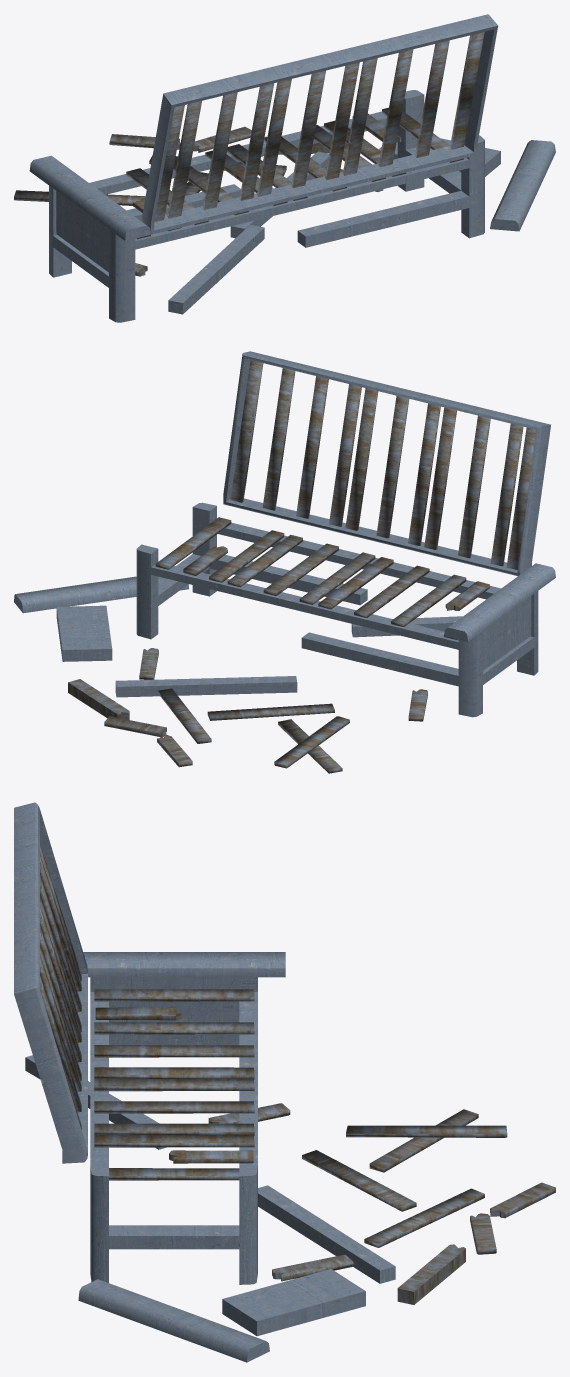
File: bench_broken.glb
3 renders of one model, top to bottom at view 1: azimuth 30°, elevation 25°; view 2: azimuth 150°, elevation 25°; view 3: azimuth 270°, elevation 25°, orthographic. The views are drawn at different scales.
Parts seen in each view (by area): view 1: Broken_Chair_Broken_Chair_Uv_map_0; view 2: Broken_Chair_Broken_Chair_Uv_map_0; view 3: Broken_Chair_Broken_Chair_Uv_map_0.
Part boxes in pixels (x1,y1,x2,y2): Broken_Chair_Broken_Chair_Uv_map_0: (14, 14, 555, 322); Broken_Chair_Broken_Chair_Uv_map_0: (14, 351, 555, 773); Broken_Chair_Broken_Chair_Uv_map_0: (14, 802, 555, 1362).
Bounding box in the file's own units: 1.88 × 0.9059 × 1.48.
1 material, 1 textured.
